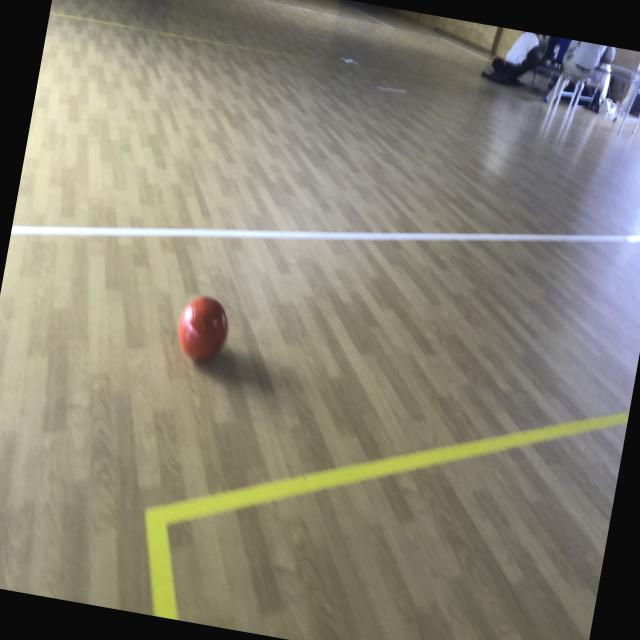red_ball: (173, 290, 234, 366)
